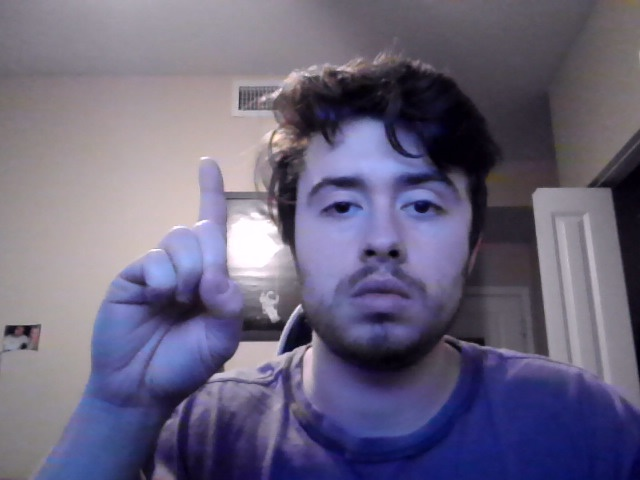d: (90, 155, 246, 416)
